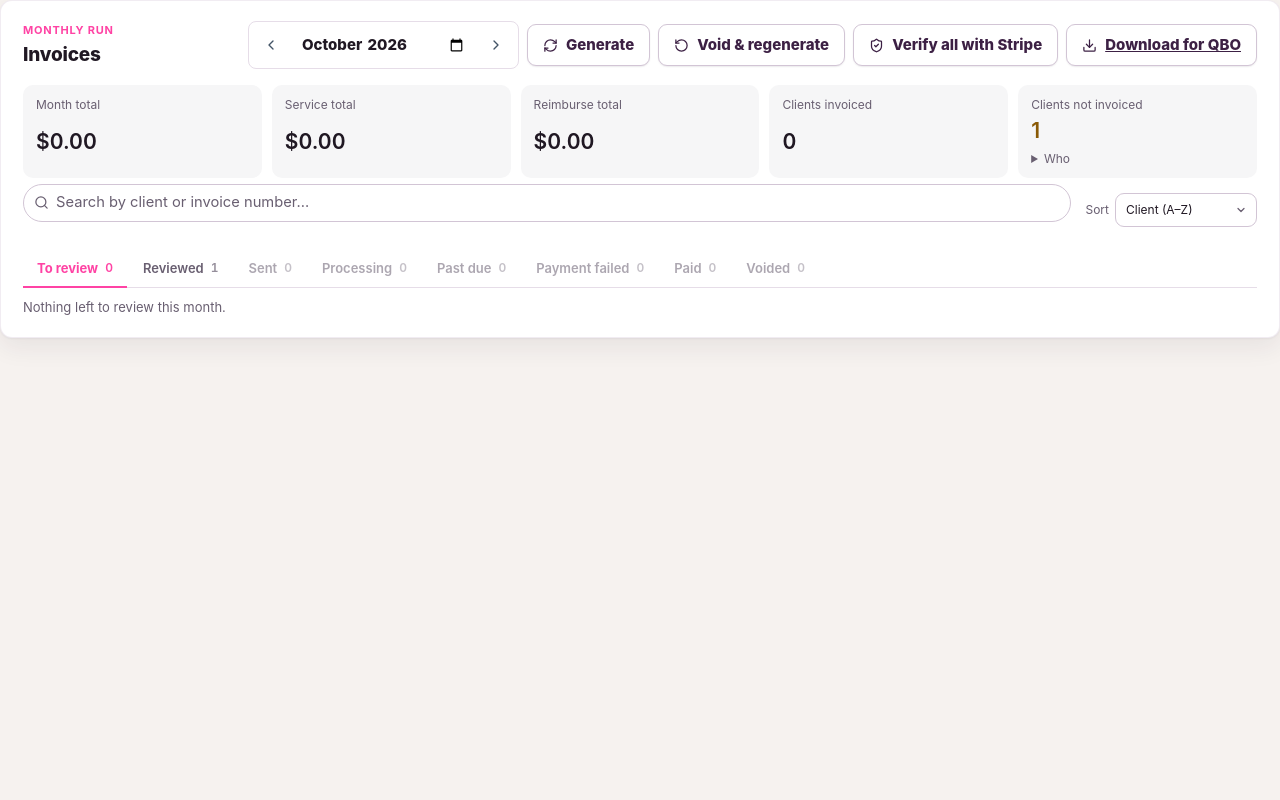
Test: the month run lists the addressed company's addresses for a billing master › names the company's address, not the master's empty list and not another sub's
Click the tab "Reviewed 1" at (181, 269), box [129,250,232,288]
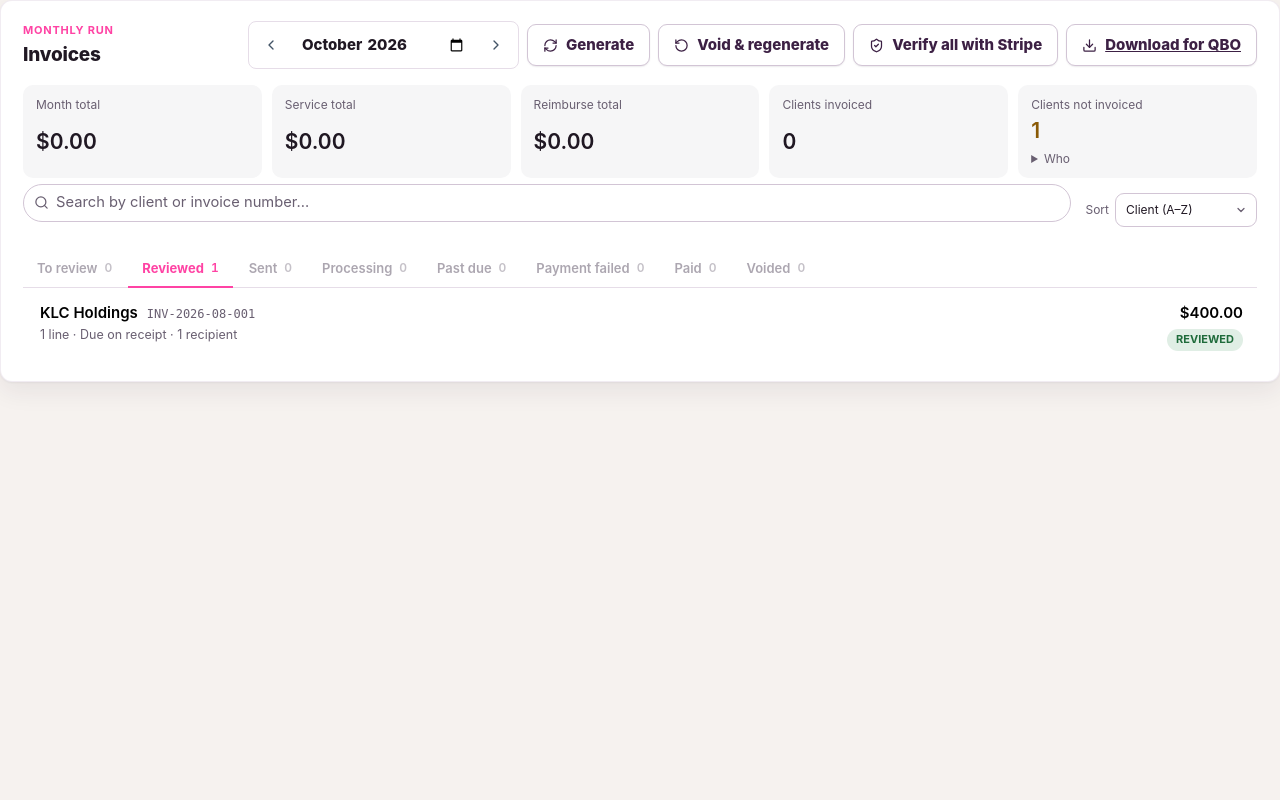
Click the text "INV-2026-08-001" at (201, 315), box [147,306,255,324]
(page scrolled)
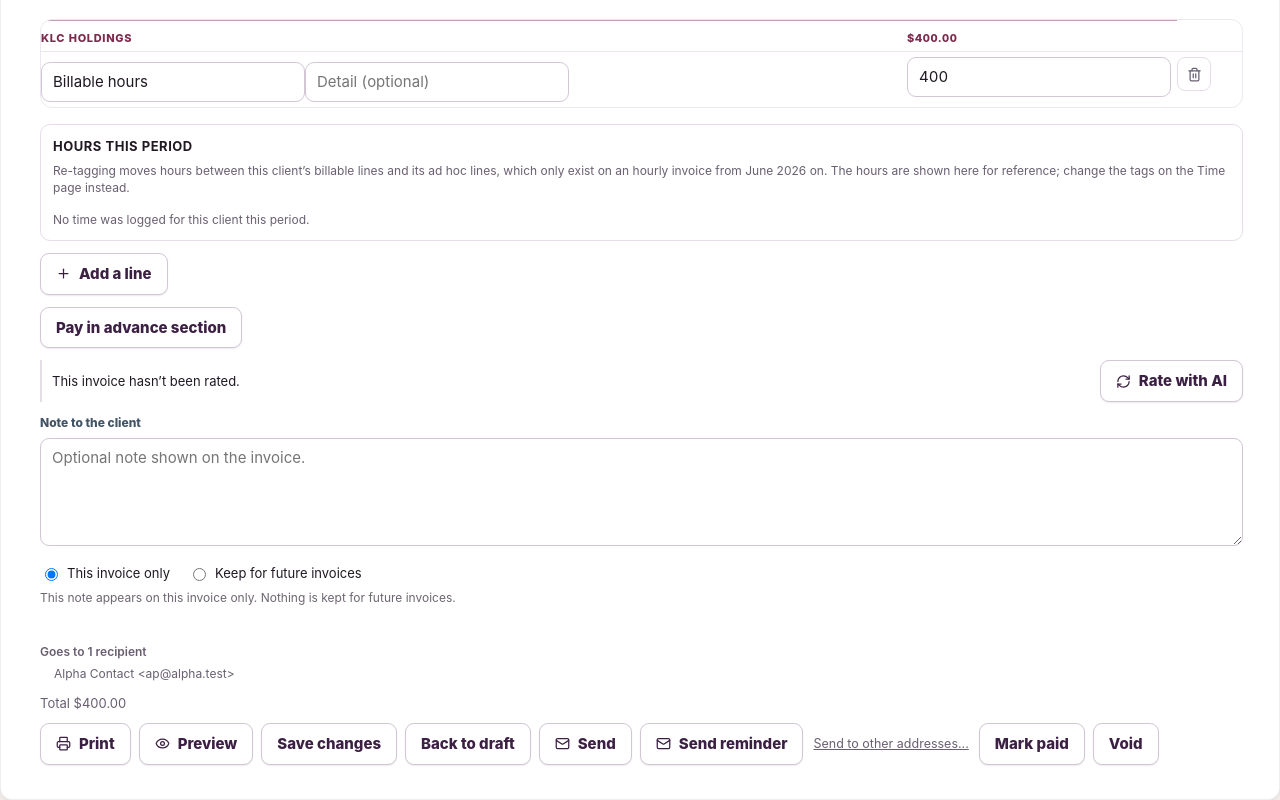
Now the list item "Alpha Contact <ap@alpha.test>" is shown, box [54,666,235,681]
Now the button "Send" is enabled, box [539,723,632,765]
